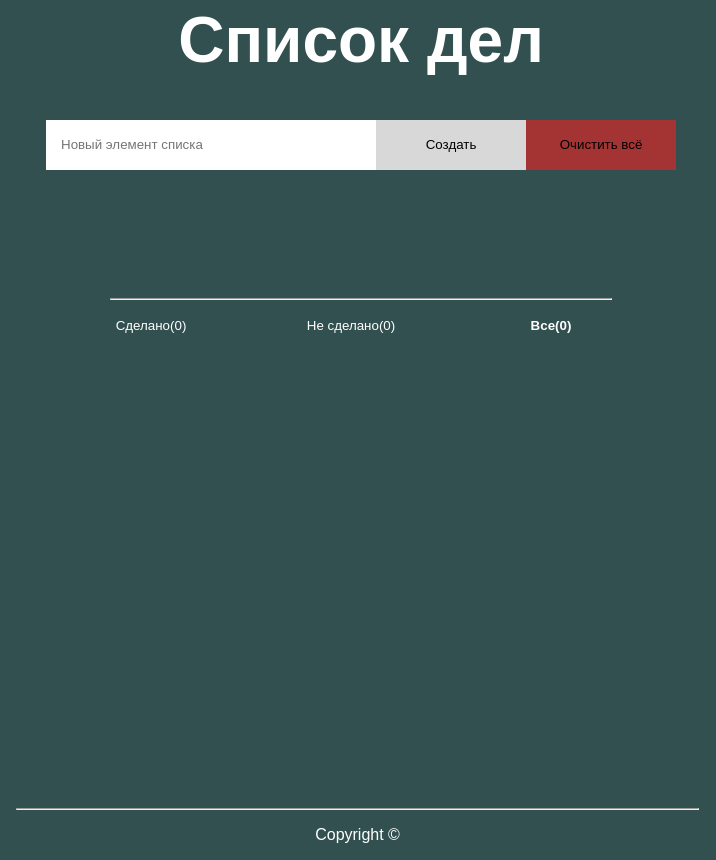
Test: Task list component › displays a filled array of tasks with actions
Step 1. Type "Test Task 1" into the field with placeholder "Новый элемент списка" → (211, 145), box [46,120,376,170]
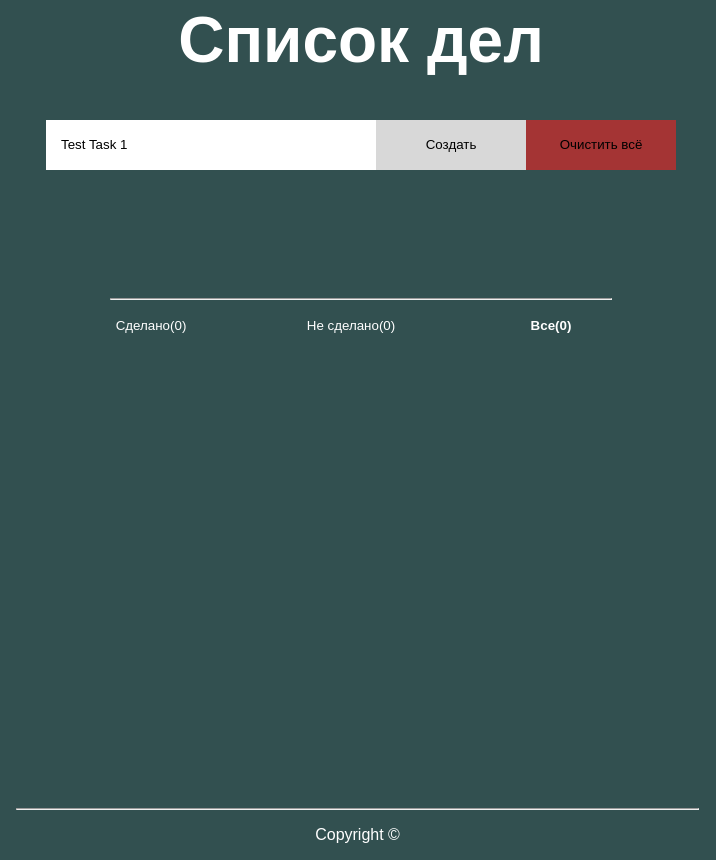
Step 2. Click the button "Создать" → (451, 145), box [376,120,526,170]
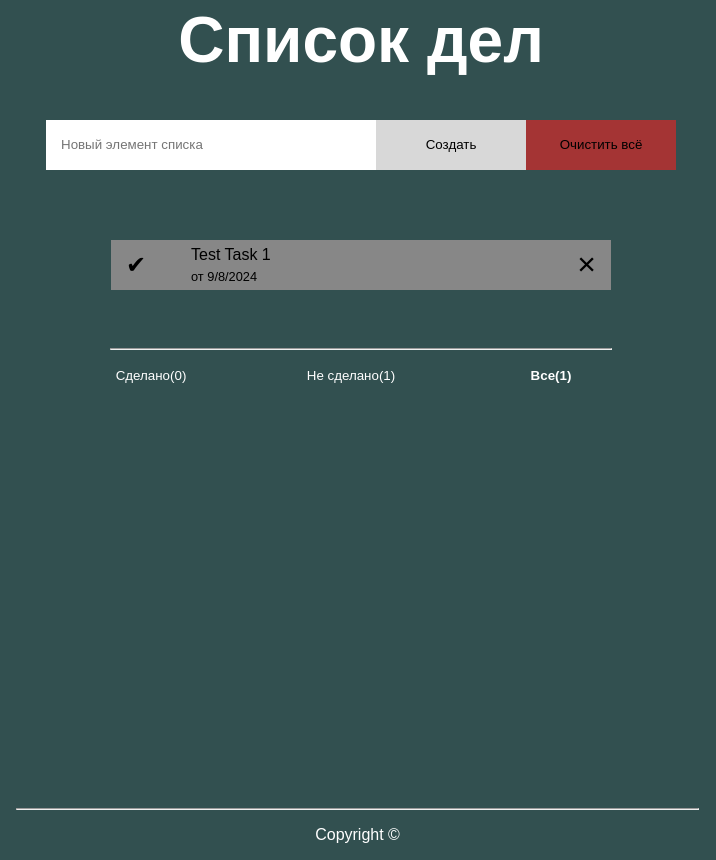
Step 3. Type "Test Task 2" into the field with placeholder "Новый элемент списка" → (211, 145), box [46,120,376,170]
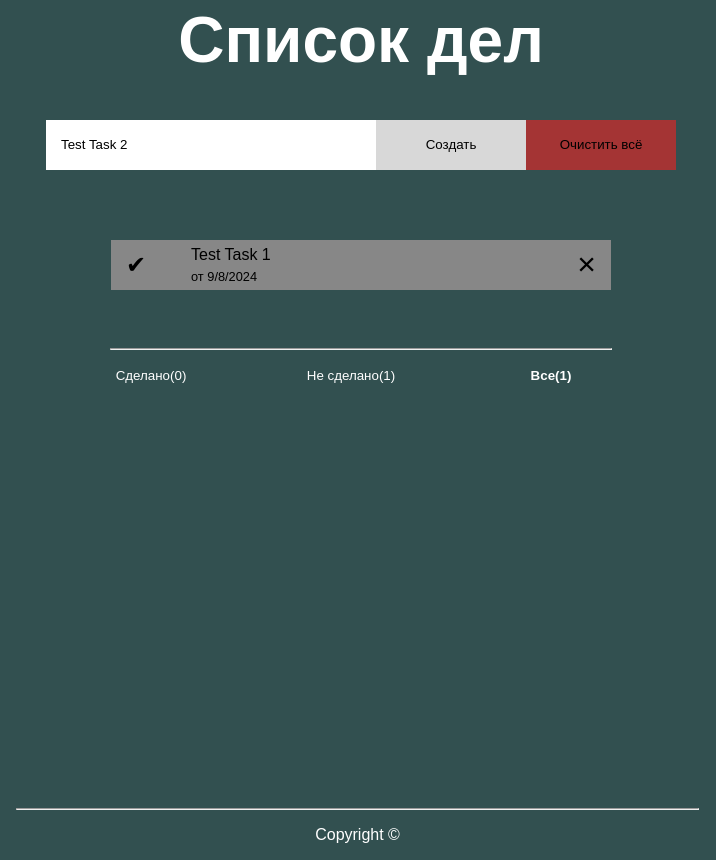
Step 4. Click the button "Создать" → (451, 145), box [376,120,526,170]
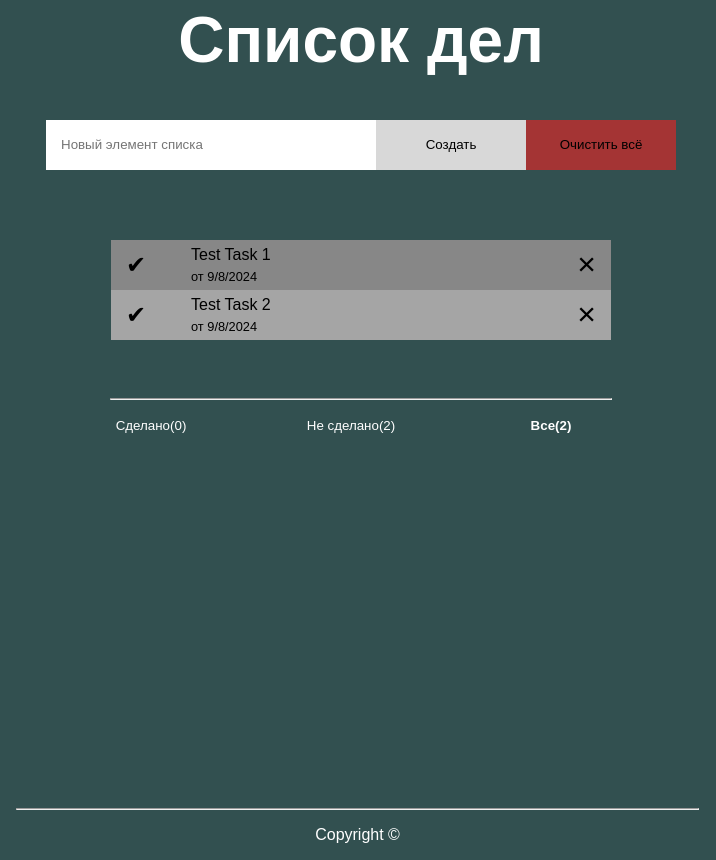
Now the text "Test Task 1" is shown, box [191,246,271,264]
Now the text "Test Task 2" is shown, box [191,296,271,314]
Now the text "✔" is shown 2 times, box [126,251,146,278]; [126,301,146,328]
